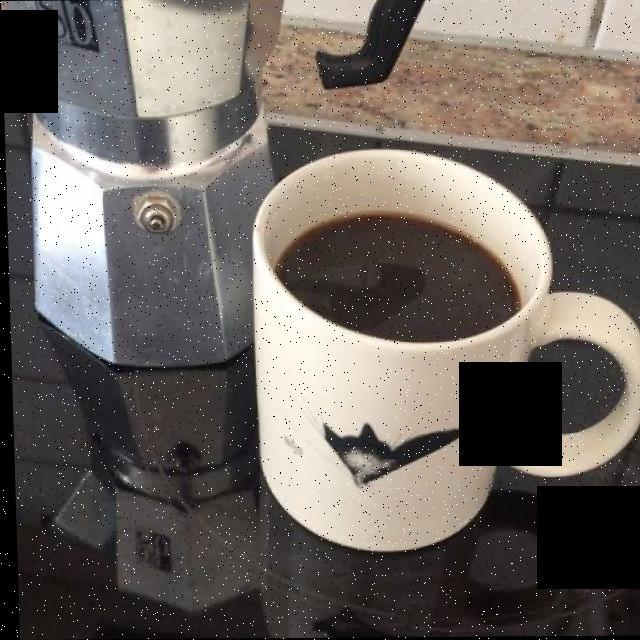drink: (277, 209, 514, 340)
